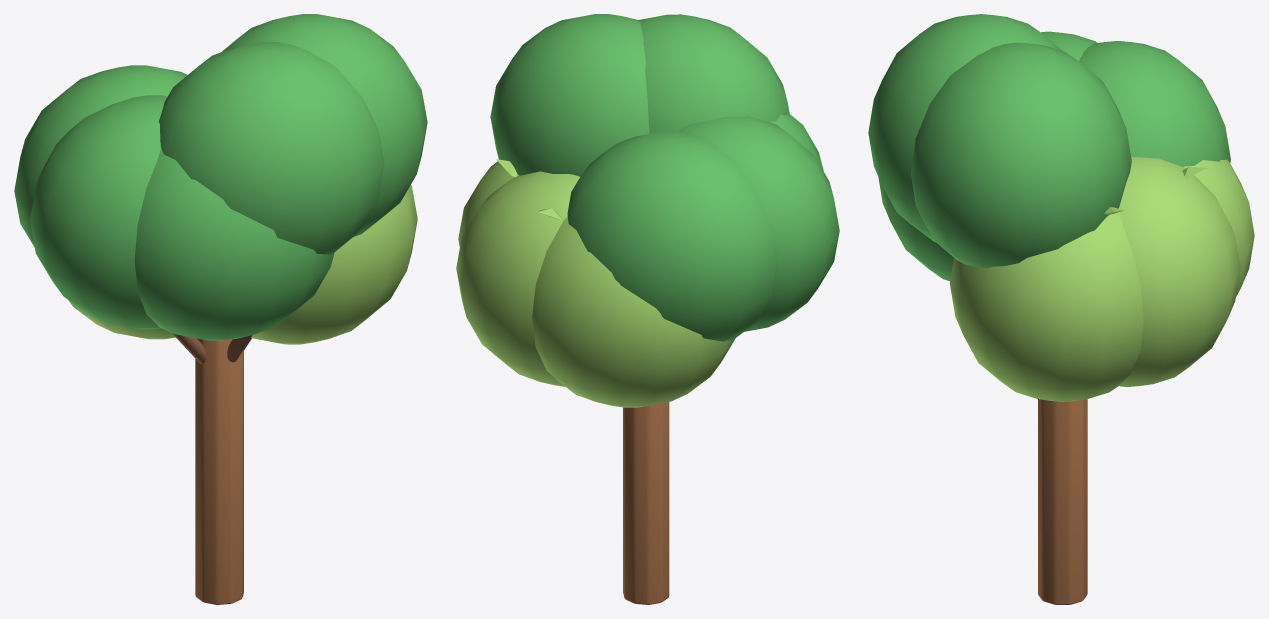
The model's file is Tree.fbx.
The picture shows the model from 3 angles, left to right: view 1: azimuth 30°, elevation 25°; view 2: azimuth 150°, elevation 25°; view 3: azimuth 270°, elevation 25°; orthographic projection. The views are drawn at different scales.
Parts seen in each view (by area): view 1: GEO-Body; view 2: GEO-Body; view 3: GEO-Body.
Part boxes in pixels (x1,y1,x2,y2): GEO-Body: (14, 14, 427, 604); GEO-Body: (456, 14, 839, 604); GEO-Body: (868, 14, 1254, 604).
Size of the model in its own units: 2.87 by 4.26 by 2.6.
